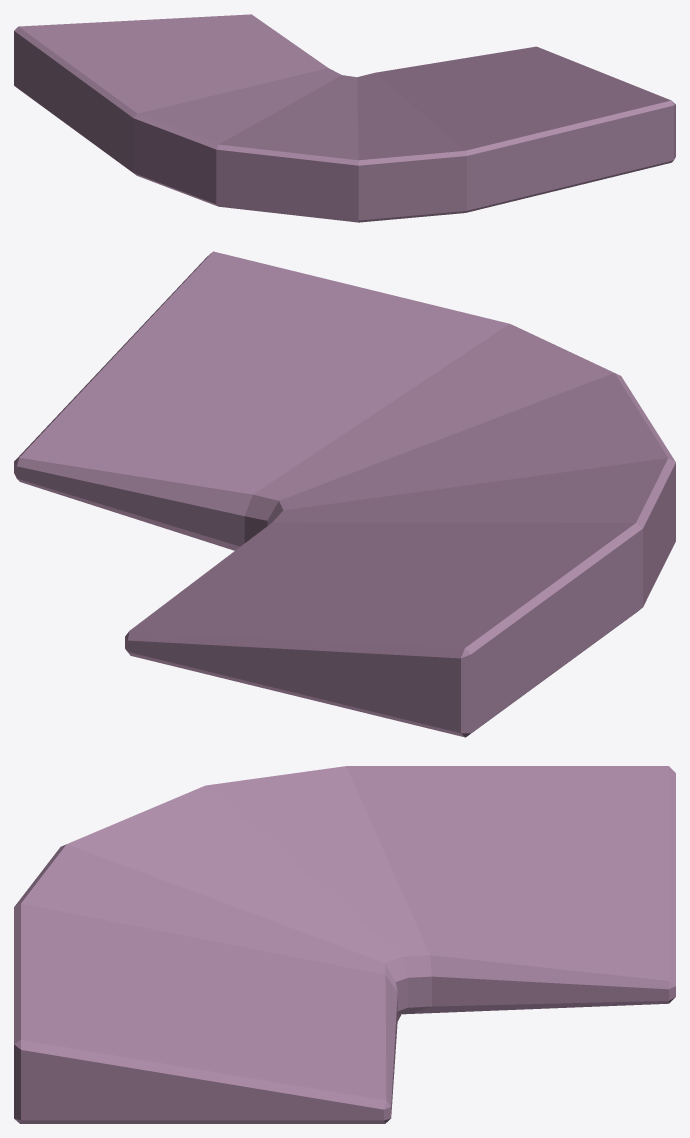
Rendered from mesh_lilCurvedRampMod.fbx.
3 views of the same model, one above another, from view 1: azimuth 30°, elevation 25°; view 2: azimuth 150°, elevation 25°; view 3: azimuth 270°, elevation 25° (orthographic). The views are drawn at different scales.
Parts seen in each view (by area): view 1: mesh_lilCurvedRampMod_v03; view 2: mesh_lilCurvedRampMod_v03; view 3: mesh_lilCurvedRampMod_v03.
Part boxes in pixels (x1,y1,x2,y2): mesh_lilCurvedRampMod_v03: (14,14,675,222); mesh_lilCurvedRampMod_v03: (14,251,675,737); mesh_lilCurvedRampMod_v03: (14,766,675,1123).
Size of the model in its own units: 10 by 1.71 by 10.
